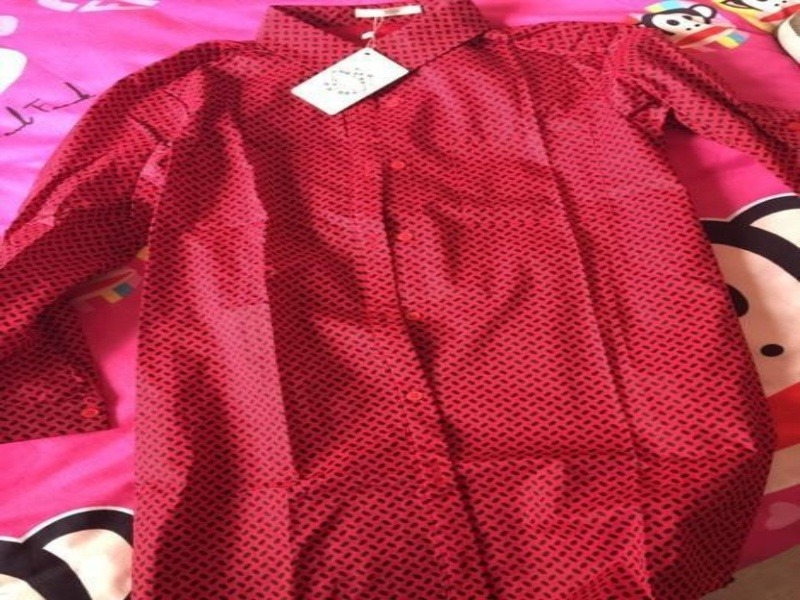long_sleeved_shirt: (0, 0, 798, 598)
